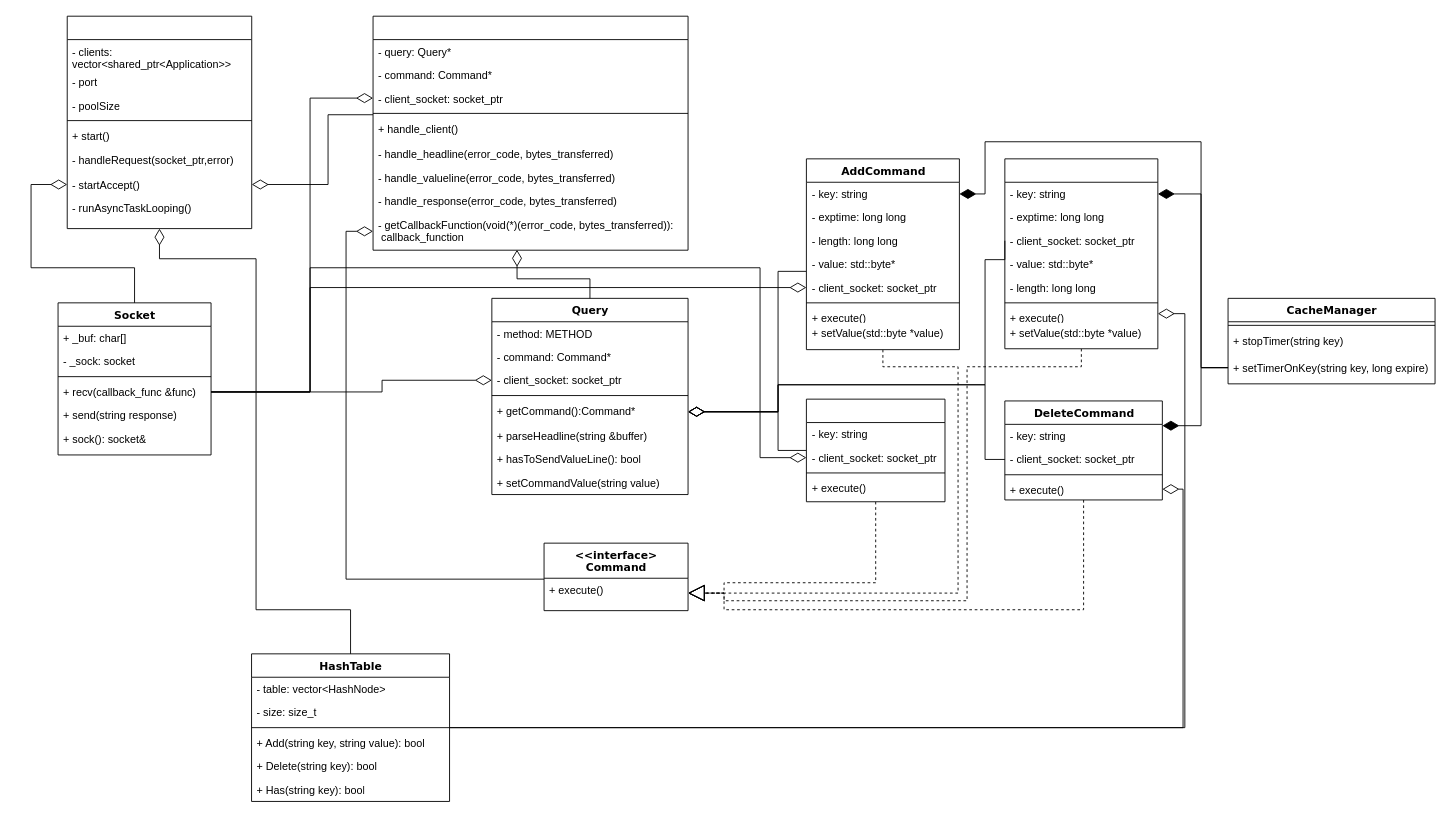
The diagram is 1451 pixels wide and 819 high, and some of its shapes have lost their labels. The shapes that lost their labels are listed below. From the top down, each one's box as (x1, y1, x2, y2) in pixels, then its label:
(66, 15, 252, 229): Server
(372, 15, 688, 250): Application
(1004, 158, 1158, 349): SetCommand
(806, 398, 945, 502): GetCommand
